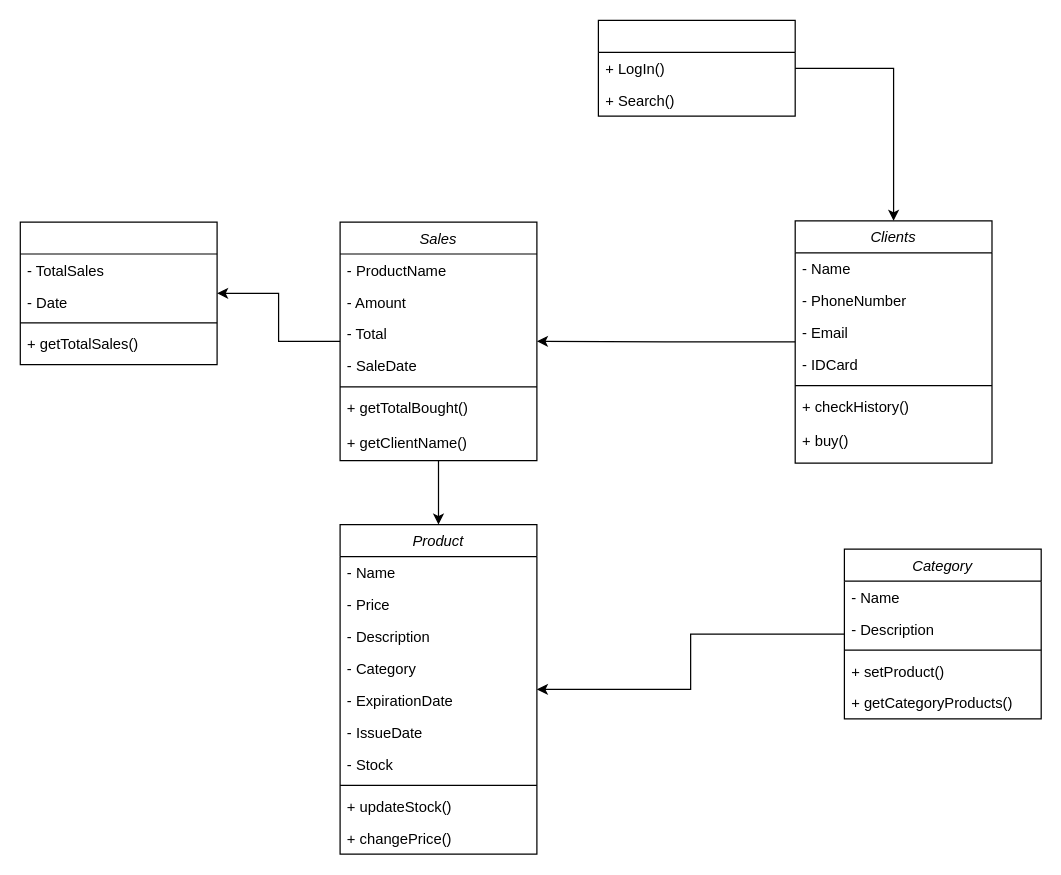
The diagram is 1061 pixels wide and 875 high, and some of its shapes have lost their labels. Each missing label, with the box of its shape:
Report: (19, 221, 217, 365)
Supermarket: (597, 19, 795, 116)
